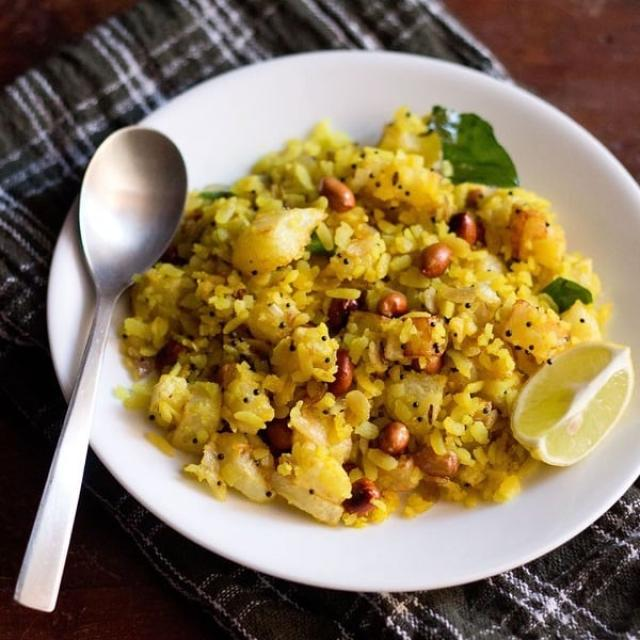UPMA: (115, 119, 607, 513)
